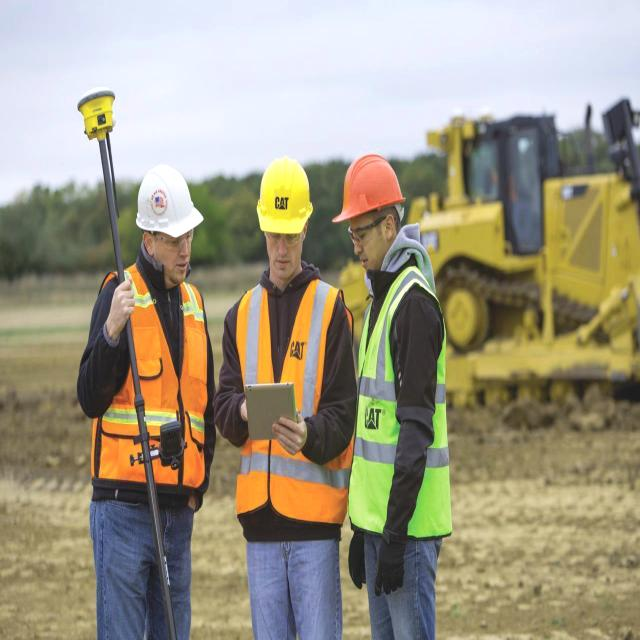face_nomask: (342, 206, 384, 280), (260, 223, 304, 284), (156, 228, 196, 286)
glasses: (345, 220, 377, 249), (157, 231, 195, 254), (265, 226, 299, 246)
hand_glove: (372, 454, 418, 604)
hand_noglove: (100, 276, 148, 344), (264, 404, 314, 464), (239, 395, 257, 429)
head_helmet: (131, 164, 211, 241), (253, 155, 317, 234), (334, 153, 408, 221)
person: (231, 156, 359, 632), (83, 173, 199, 640), (344, 154, 444, 638)
vest: (234, 274, 356, 530), (349, 272, 455, 534), (104, 266, 214, 486)
